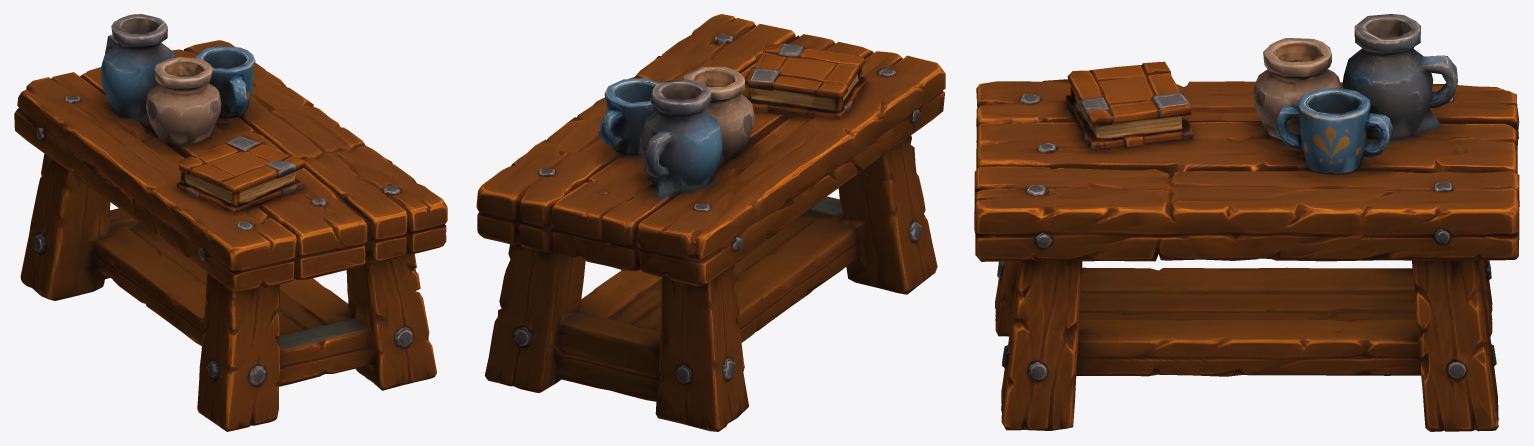
Rendered from table.glb.
3 renders of one model, left to right at view 1: azimuth 30°, elevation 25°; view 2: azimuth 150°, elevation 25°; view 3: azimuth 270°, elevation 25°, orthographic. The views are drawn at different scales.
Parts seen in each view (by area): view 1: tripo_node_4dffe8ac-8bcd-4d2e-8f11-6a31691e1d4f; view 2: tripo_node_4dffe8ac-8bcd-4d2e-8f11-6a31691e1d4f; view 3: tripo_node_4dffe8ac-8bcd-4d2e-8f11-6a31691e1d4f.
Part boxes in pixels (box(x1,y1,x2,y2)): tripo_node_4dffe8ac-8bcd-4d2e-8f11-6a31691e1d4f: box(14, 14, 447, 431); tripo_node_4dffe8ac-8bcd-4d2e-8f11-6a31691e1d4f: box(476, 14, 945, 431); tripo_node_4dffe8ac-8bcd-4d2e-8f11-6a31691e1d4f: box(974, 14, 1519, 431).
Bounding box in the file's own units: 0.5609 × 0.657 × 1.
Materials: 1 (1 with a texture image).
